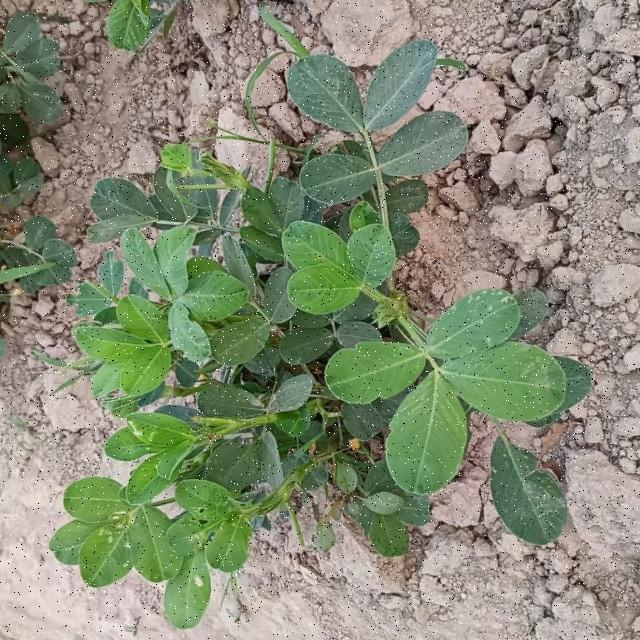plant: (50, 41, 591, 628)
